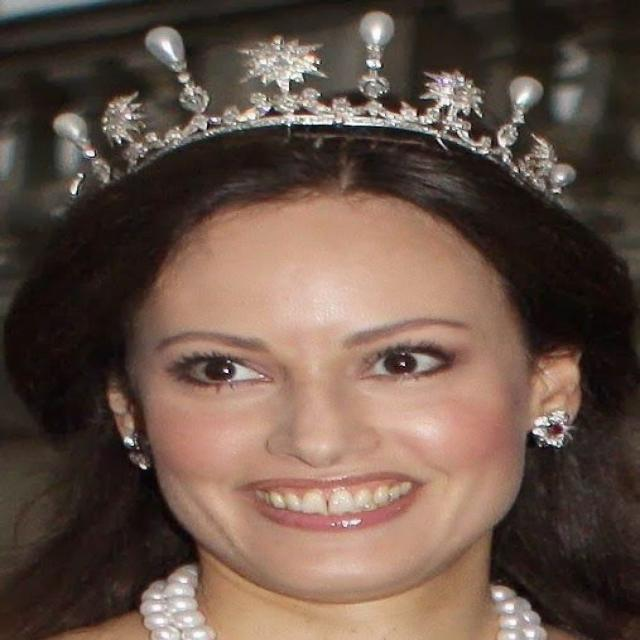Earring: (526, 391, 584, 462), (109, 424, 159, 486)
